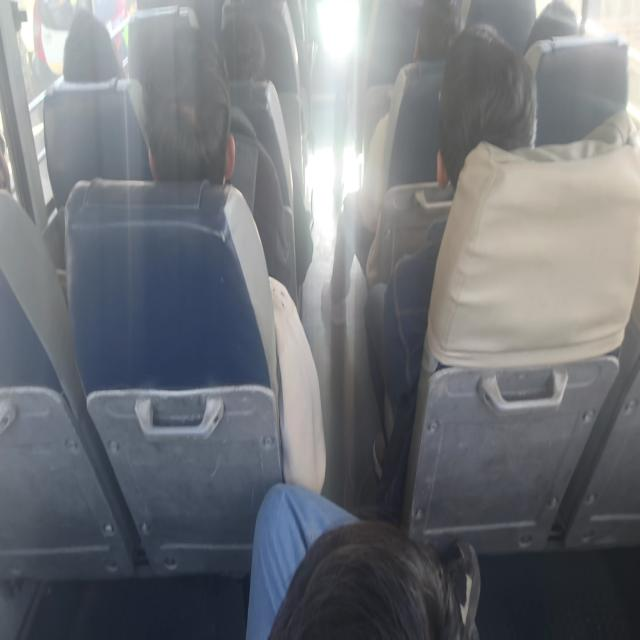person: (247, 525, 479, 640), (146, 33, 244, 205), (427, 45, 529, 206), (210, 1, 266, 78), (59, 20, 118, 81), (522, 0, 586, 55), (412, 0, 458, 64), (0, 122, 30, 197)
